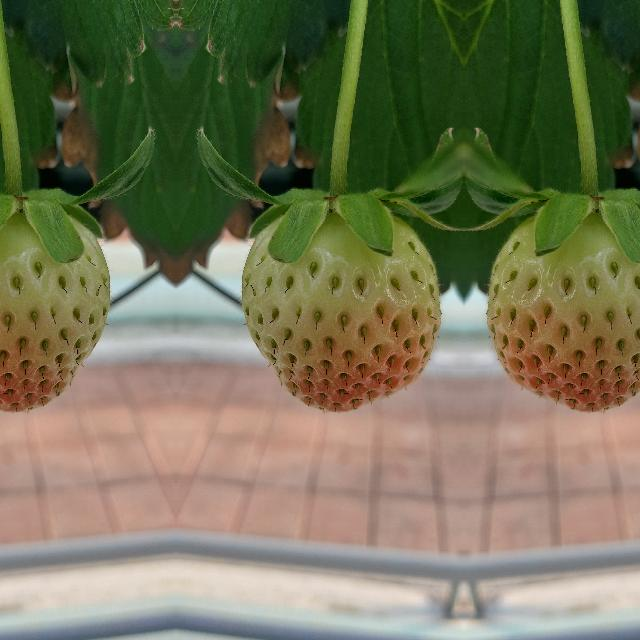Health_50: (240, 210, 440, 412), (485, 210, 640, 412), (0, 210, 110, 412)
